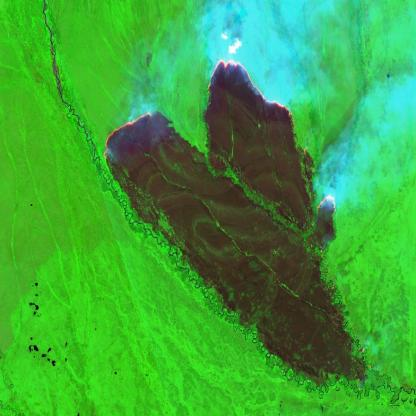fire: (203, 53, 295, 128), (98, 104, 160, 164), (310, 186, 342, 218)
